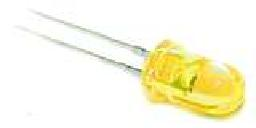LED: (21, 9, 249, 117)
